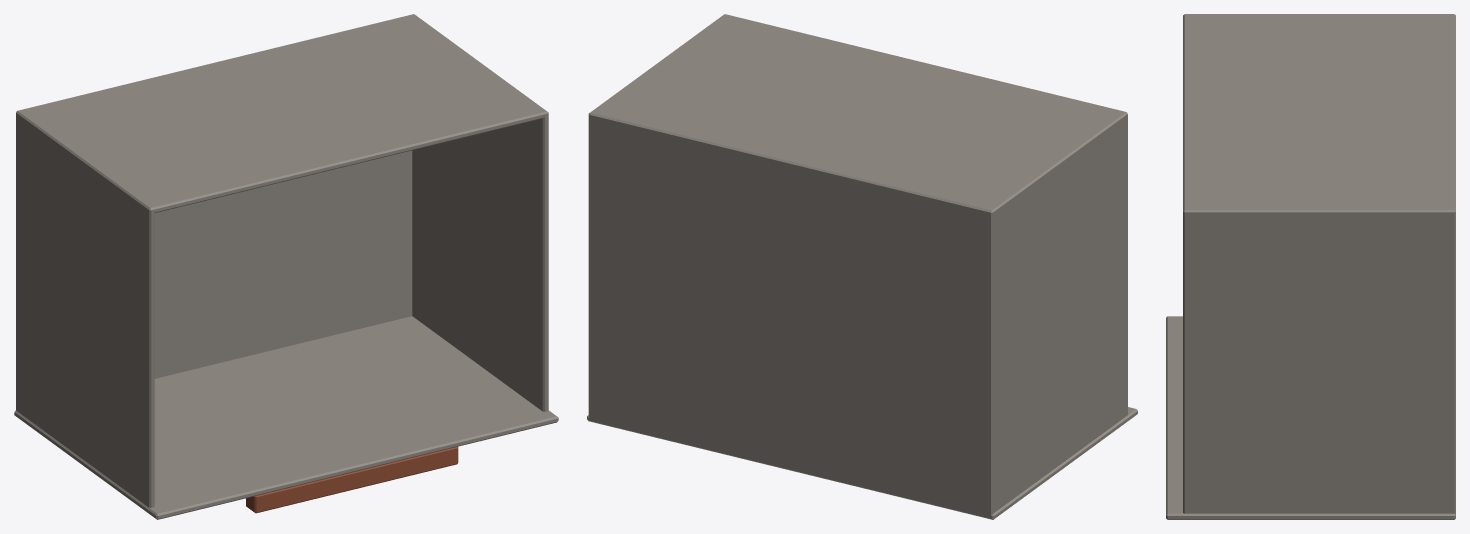
The model's file is tilt_bin_rack_bin_r2c2.glb.
The picture shows the model from 3 angles, left to right: view 1: azimuth 30°, elevation 25°; view 2: azimuth 150°, elevation 25°; view 3: azimuth 270°, elevation 25°; orthographic projection.
Parts seen in each view (by area): view 1: tilt_bin_rack_bin_r2c2.001; view 2: tilt_bin_rack_bin_r2c2.001; view 3: tilt_bin_rack_bin_r2c2.001.
Part boxes in pixels (x1,y1,x2,y2): tilt_bin_rack_bin_r2c2.001: (14, 14, 558, 519); tilt_bin_rack_bin_r2c2.001: (587, 14, 1137, 519); tilt_bin_rack_bin_r2c2.001: (1166, 14, 1455, 519).
Size of the model in its own units: 0.276 by 0.212 by 0.17.
